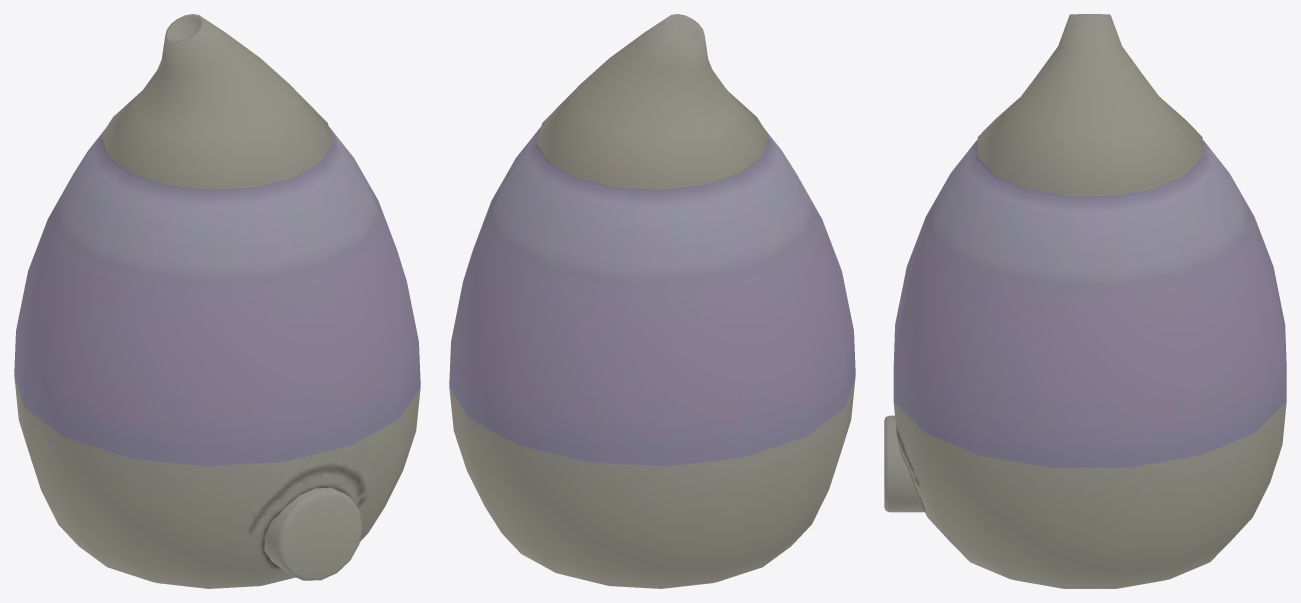
3 views of the same model, side by side, from view 1: azimuth 30°, elevation 25°; view 2: azimuth 150°, elevation 25°; view 3: azimuth 270°, elevation 25° (orthographic).
Bounding box in the file's own units: 5.01 × 7.2 × 5.13.
Materials: 1 (1 with a texture image).
